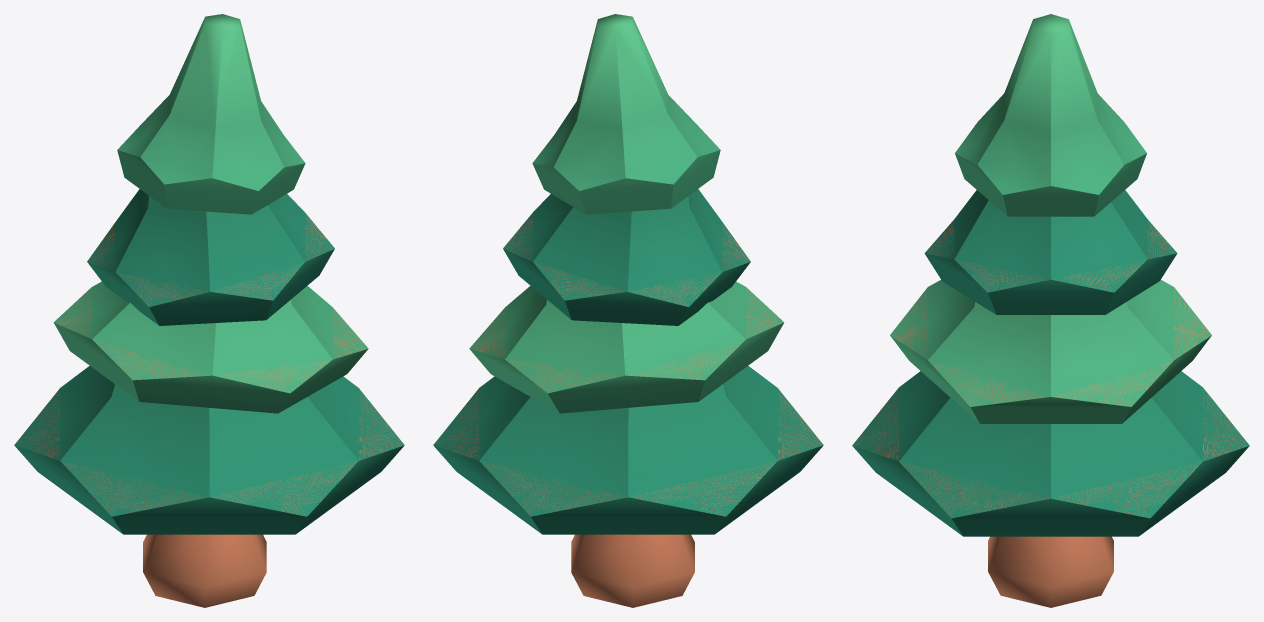
Rendered from pine-crooked.002_lev1.glb.
3 renders of one model, left to right at view 1: azimuth 30°, elevation 25°; view 2: azimuth 150°, elevation 25°; view 3: azimuth 270°, elevation 25°, orthographic.
Parts seen in each view (by area): view 1: pine-crooked.002_lev1; view 2: pine-crooked.002_lev1; view 3: pine-crooked.002_lev1.
Boxes of the visible parts, x1,y1,x2,y2 form: pine-crooked.002_lev1: (14, 14, 404, 607); pine-crooked.002_lev1: (433, 14, 823, 607); pine-crooked.002_lev1: (852, 14, 1249, 607).
Size of the model in its own units: 14.14 by 25.3 by 16.01.
1 material, 1 textured.
